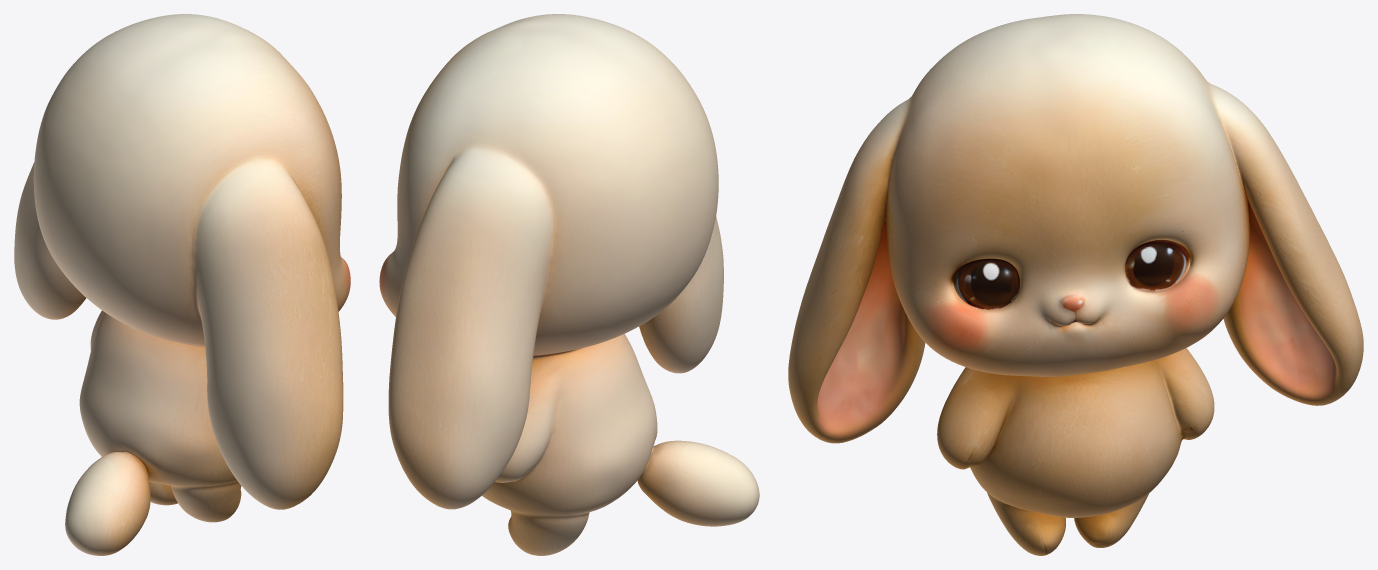
The model's file is mongi.glb.
3 renders of one model, left to right at view 1: azimuth 30°, elevation 25°; view 2: azimuth 150°, elevation 25°; view 3: azimuth 270°, elevation 25°, orthographic. The views are drawn at different scales.
Parts seen in each view (by area): view 1: tripo_node_4ecd2f49-a241-4c8b-bc2e-2882239841c7; view 2: tripo_node_4ecd2f49-a241-4c8b-bc2e-2882239841c7; view 3: tripo_node_4ecd2f49-a241-4c8b-bc2e-2882239841c7.
Boxes of the visible parts, bbox=[...] form: tripo_node_4ecd2f49-a241-4c8b-bc2e-2882239841c7: bbox=[14, 14, 350, 555]; tripo_node_4ecd2f49-a241-4c8b-bc2e-2882239841c7: bbox=[379, 14, 759, 555]; tripo_node_4ecd2f49-a241-4c8b-bc2e-2882239841c7: bbox=[788, 14, 1363, 555].
Size of the model in its own units: 0.6037 by 0.9887 by 0.9999.
Materials: 1 (1 with a texture image).
